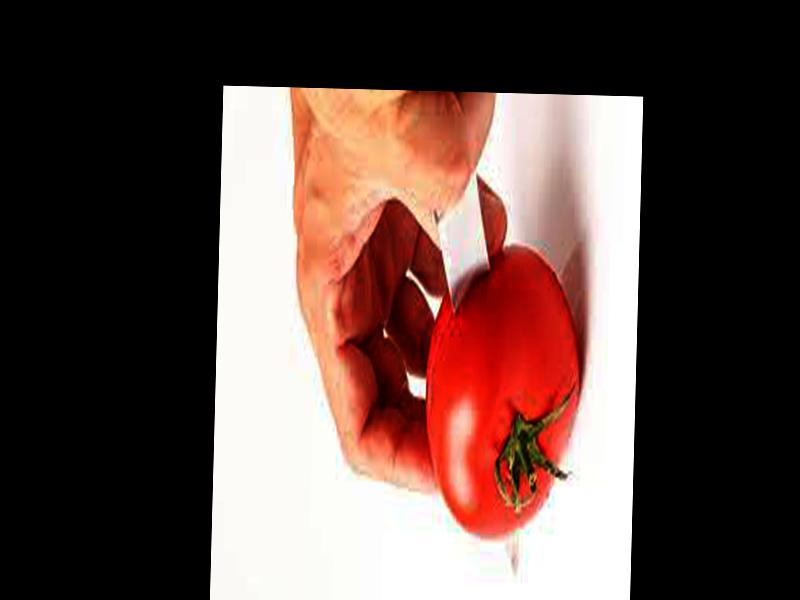Tomato: (421, 244, 583, 535)
